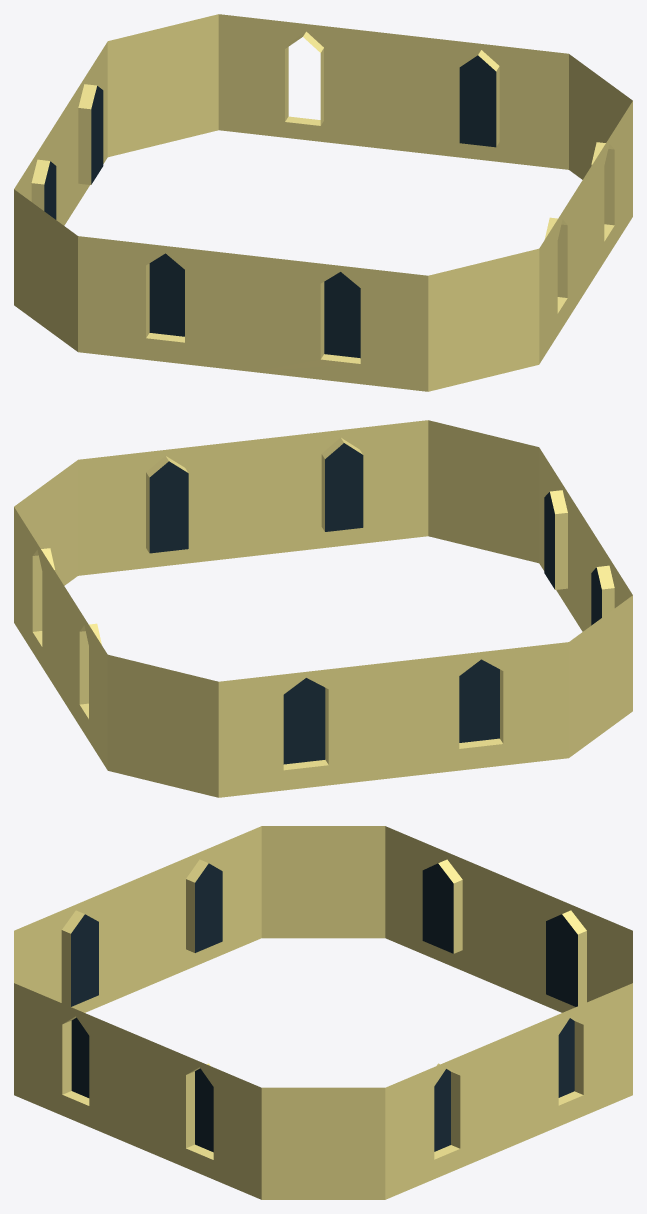
Rendered from castle_base_windows.FBX.
3 views of the same model, one above another, from view 1: azimuth 30°, elevation 25°; view 2: azimuth 150°, elevation 25°; view 3: azimuth 270°, elevation 25° (orthographic). The views are drawn at different scales.
Parts seen in each view (by area): view 1: castle_base_windows; view 2: castle_base_windows; view 3: castle_base_windows.
Part boxes in pixels (x1=…): castle_base_windows: x1=14, y1=14, x2=632, y2=391; castle_base_windows: x1=14, y1=420, x2=632, y2=797; castle_base_windows: x1=14, y1=826, x2=632, y2=1199.
Bounding box in the file's own units: 50 × 10 × 50.
